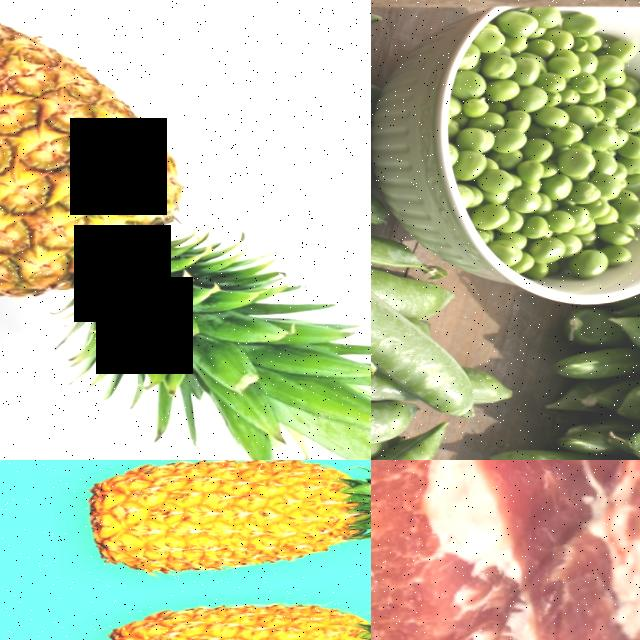peas: (447, 22, 640, 275)
pineapple: (0, 0, 230, 328), (80, 460, 371, 578), (89, 591, 371, 640)
pork belly: (371, 460, 640, 640)
